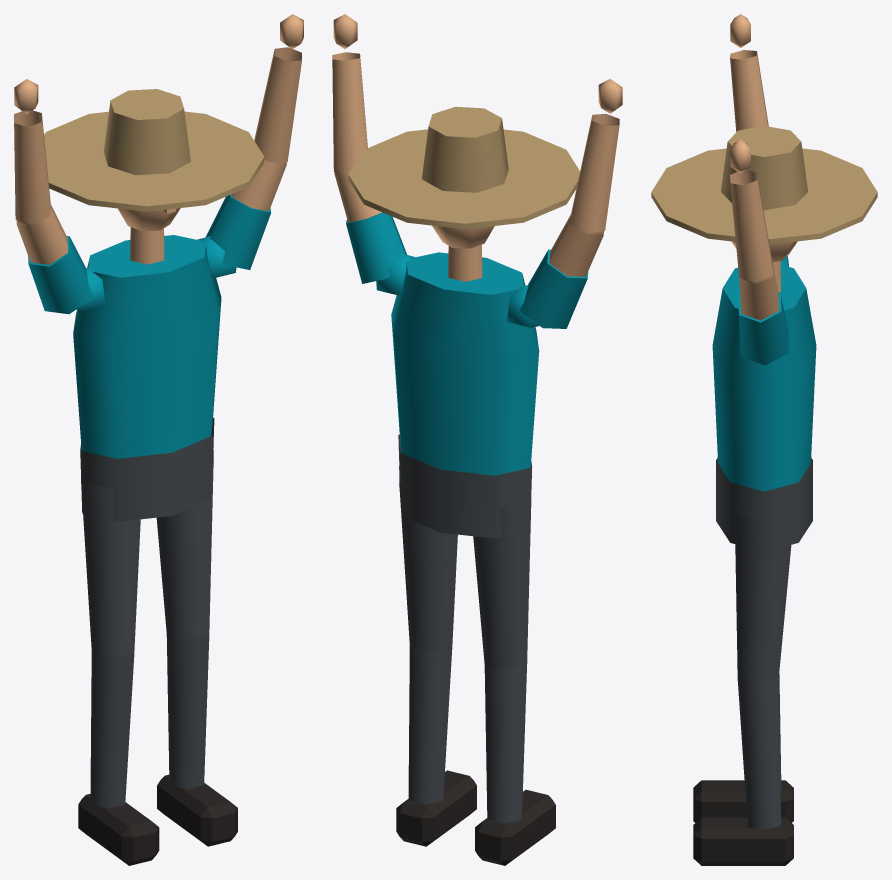
The model's file is fan_j.dae.
3 views of the same model, side by side, from view 1: azimuth 30°, elevation 25°; view 2: azimuth 150°, elevation 25°; view 3: azimuth 270°, elevation 25° (orthographic). The views are drawn at different scales.
Visible parts, largest first — view 1: marker; view 2: marker; view 3: marker.
Part boxes in pixels (bbox=[...]): marker: bbox=[14, 14, 303, 865]; marker: bbox=[332, 14, 622, 865]; marker: bbox=[651, 14, 877, 865].
Bounding box in the file's own units: 0.7671 × 0.54 × 2.02.
1 material, 1 textured.
